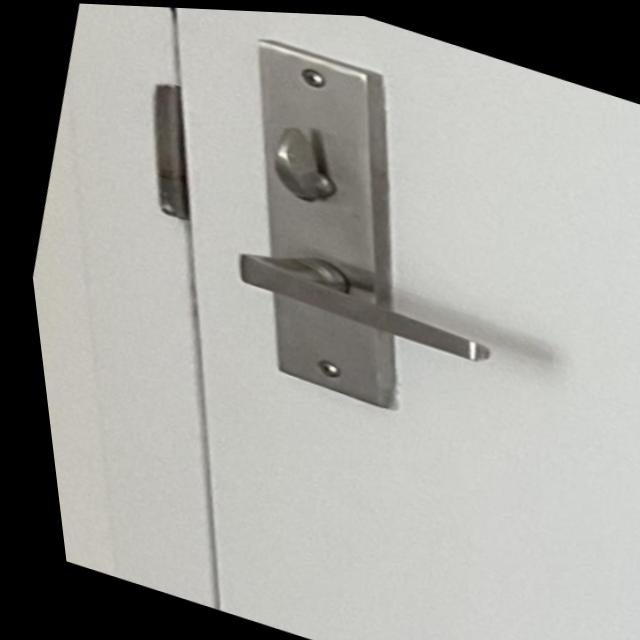door_handle: (181, 200, 523, 402)
